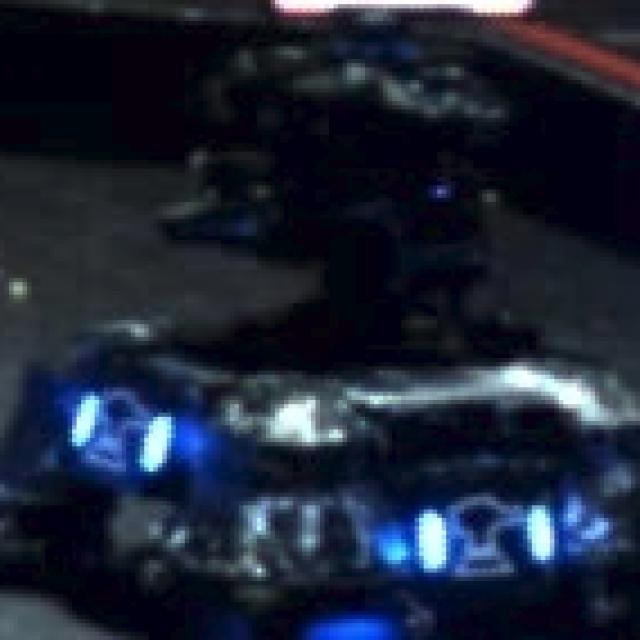Bs: (406, 497, 563, 581), (77, 392, 189, 476)
